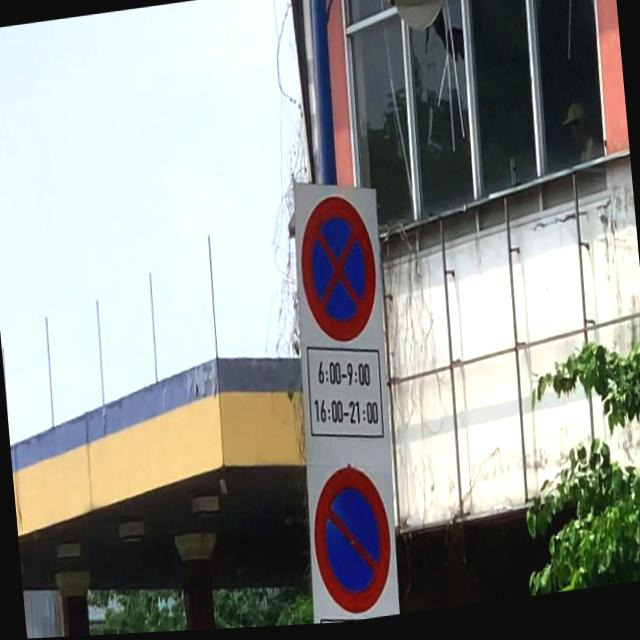Cam do xe: (304, 454, 396, 619)
Cam dung xe va do xe: (292, 187, 386, 359)
